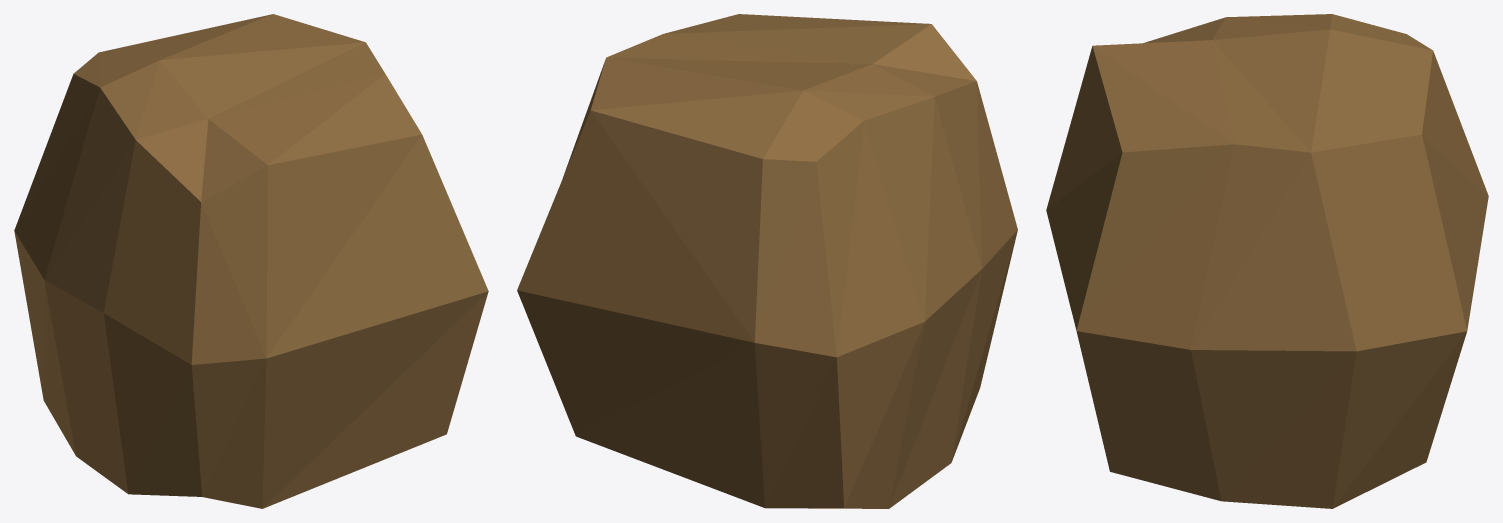
Rendered from rock_04_vfns.FBX.
The picture shows the model from 3 angles, left to right: view 1: azimuth 30°, elevation 25°; view 2: azimuth 150°, elevation 25°; view 3: azimuth 270°, elevation 25°; orthographic projection. The views are drawn at different scales.
Visible parts, largest first — view 1: Box001; view 2: Box001; view 3: Box001.
Part boxes in pixels (x1,y1,x2,y2): Box001: [14, 14, 488, 508]; Box001: [517, 14, 1017, 508]; Box001: [1046, 14, 1488, 508].
Bounding box in the file's own units: 7284 × 7662 × 7613.
Materials: 1 (1 with a texture image).
